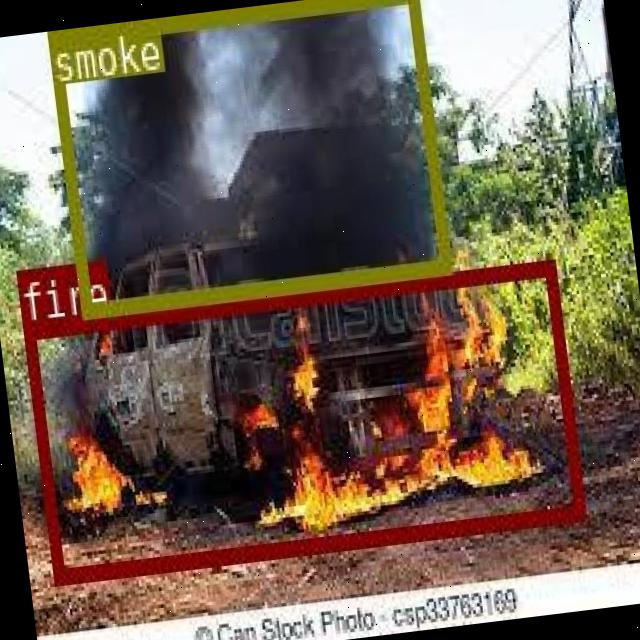fire: (21, 256, 583, 582)
smoke: (44, 0, 448, 313)
